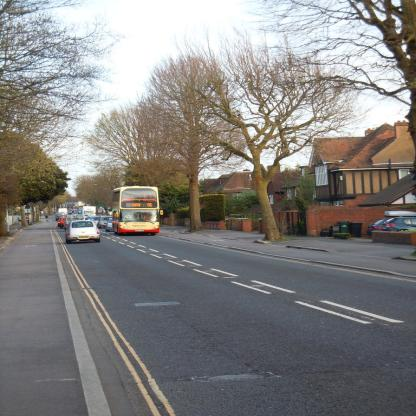Car: (65, 219, 101, 244), (383, 212, 416, 232), (86, 216, 113, 233), (368, 220, 389, 237), (56, 215, 63, 222), (58, 212, 66, 216)
